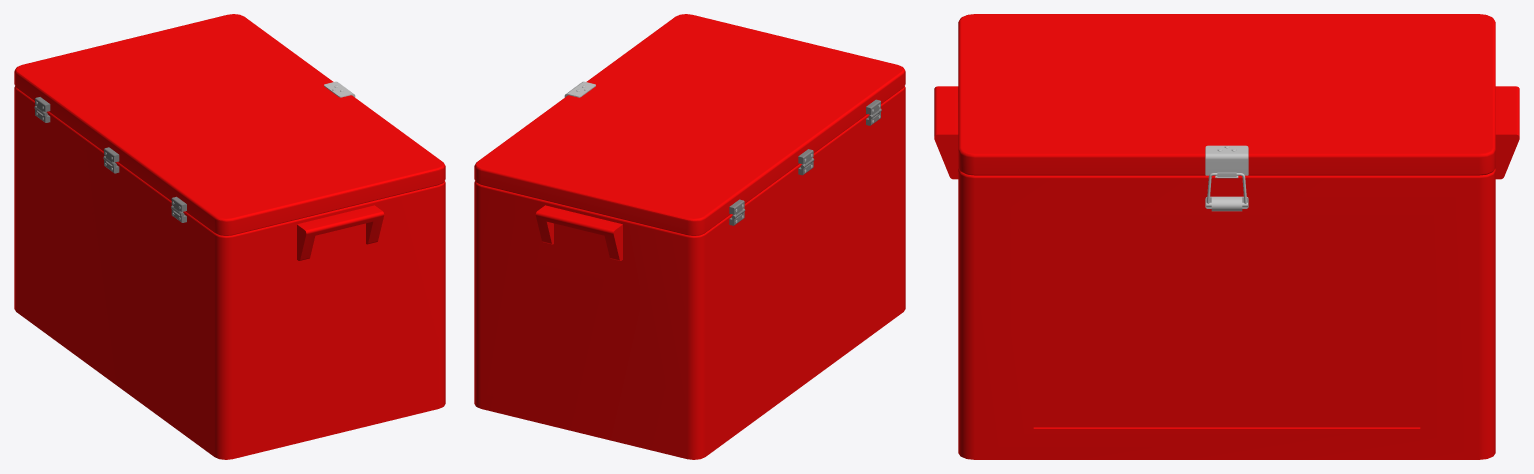
3 renders of one model, left to right at view 1: azimuth 30°, elevation 25°; view 2: azimuth 150°, elevation 25°; view 3: azimuth 270°, elevation 25°, orthographic. The views are drawn at different scales.
Parts seen in each view (by area): view 1: pCube4, pCube21; view 2: pCube4, pCube21; view 3: pCube4, pCube21.
Boxes of the visible parts, x1=… form: pCube4: x1=14, y1=86, x2=445, y2=459; pCube21: x1=14, y1=14, x2=445, y2=235; pCube4: x1=474, y1=86, x2=905, y2=459; pCube21: x1=474, y1=14, x2=905, y2=235; pCube4: x1=934, y1=86, x2=1519, y2=459; pCube21: x1=958, y1=14, x2=1495, y2=178.
Size of the model in its own units: 0.2637 by 0.25 by 0.4322.
